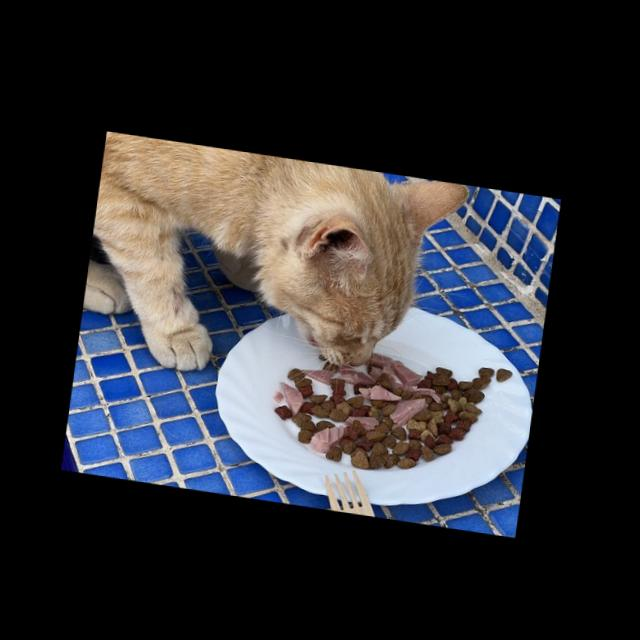animals: (77, 129, 474, 405)
